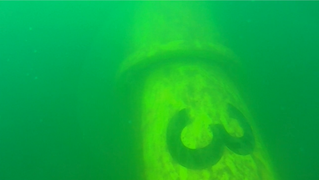3: (166, 101, 256, 170)
pipe: (114, 1, 278, 179)
